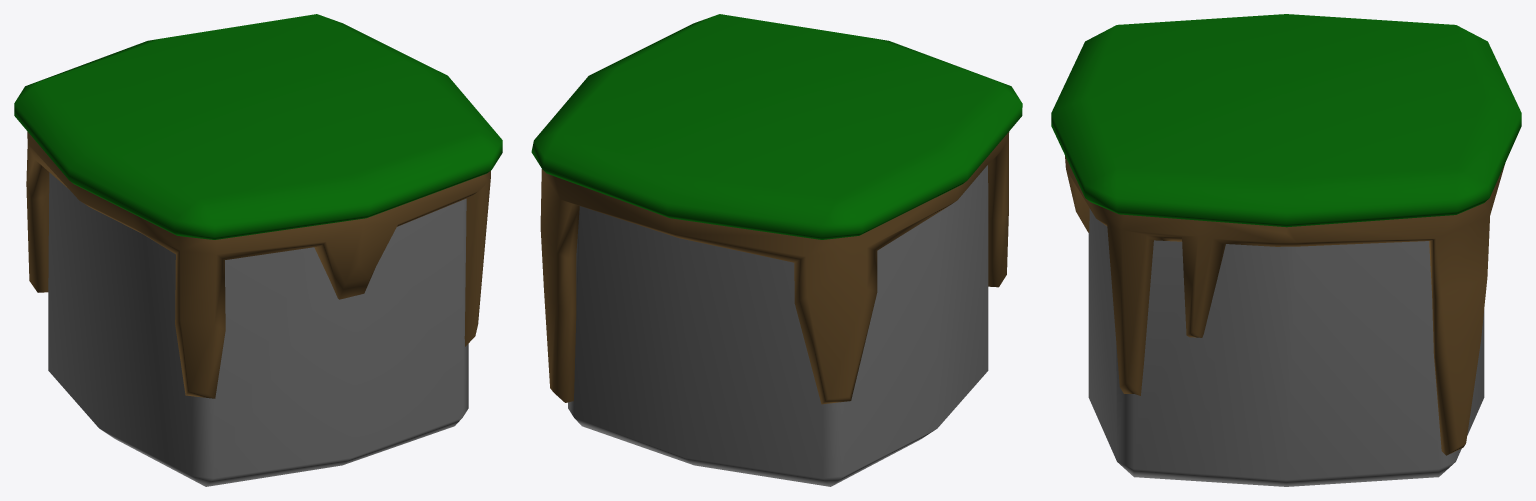
Rendered from rock_support.fbx.
3 renders of one model, left to right at view 1: azimuth 30°, elevation 25°; view 2: azimuth 150°, elevation 25°; view 3: azimuth 270°, elevation 25°, orthographic. The views are drawn at different scales.
Visible parts, largest first — view 1: rock_support; view 2: rock_support; view 3: rock_support.
Part boxes in pixels (bbox=[...]): rock_support: bbox=[14, 14, 502, 486]; rock_support: bbox=[531, 14, 1022, 486]; rock_support: bbox=[1051, 14, 1521, 486].
Bounding box in the file's own units: 3.08 × 2.31 × 3.12.
